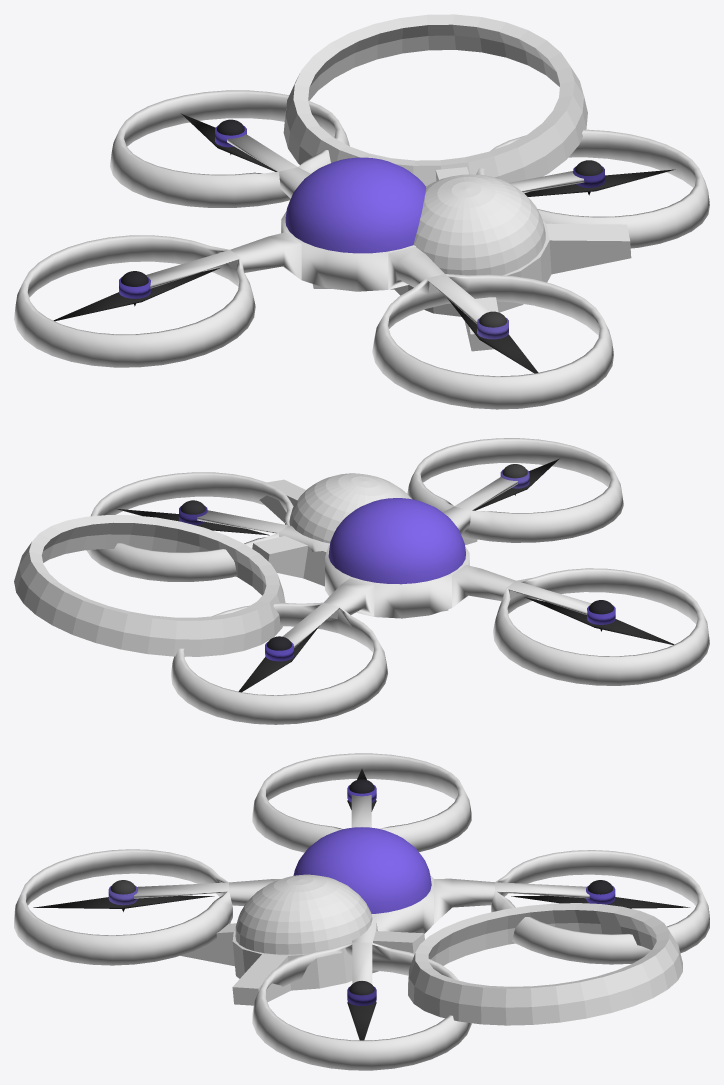
Rendered from quadfinal_smooth.fbx.
3 renders of one model, top to bottom at view 1: azimuth 30°, elevation 25°; view 2: azimuth 150°, elevation 25°; view 3: azimuth 270°, elevation 25°, orthographic. The views are drawn at different scales.
Visible parts, largest first — view 1: Sphere.017, Sphere.000, Sphere.004, Sphere, Cone.005, Cone.002, Cone.013, Cone.009; view 2: Sphere.017, Sphere.000, Sphere, Sphere.004, Cone.005, Cone.009, Cone.002, Cone.013; view 3: Sphere.017, Sphere.000, Sphere.004, Sphere, Cone.013, Cone.009, Cone.002.
Boxes of the visible parts, x1,y1,x2,y2 form: Sphere.017: (14,90,709,409); Sphere.000: (283,14,587,186); Sphere.004: (312,167,631,351); Sphere: (285,157,426,253); Cone.005: (53,268,219,321); Cone.002: (524,169,675,196); Cone.013: (447,298,538,373); Cone.009: (181,113,277,171); Sphere.017: (86,438,709,724); Sphere.000: (14,515,285,656); Sphere: (328,498,465,584); Sphere.004: (252,473,477,611); Cone.005: (524,597,673,644); Cone.009: (238,625,319,692); Cone.002: (116,508,269,535); Cone.013: (473,458,559,510); Sphere.017: (14,753,709,1070); Sphere.000: (408,903,682,1025); Sphere.004: (180,874,424,1005); Sphere: (293,827,431,913); Cone.013: (33,895,214,908); Cone.009: (511,895,689,908); Cone.002: (347,1001,376,1040).
Size of the model in its own units: 37.93 by 6.3 by 37.93.
